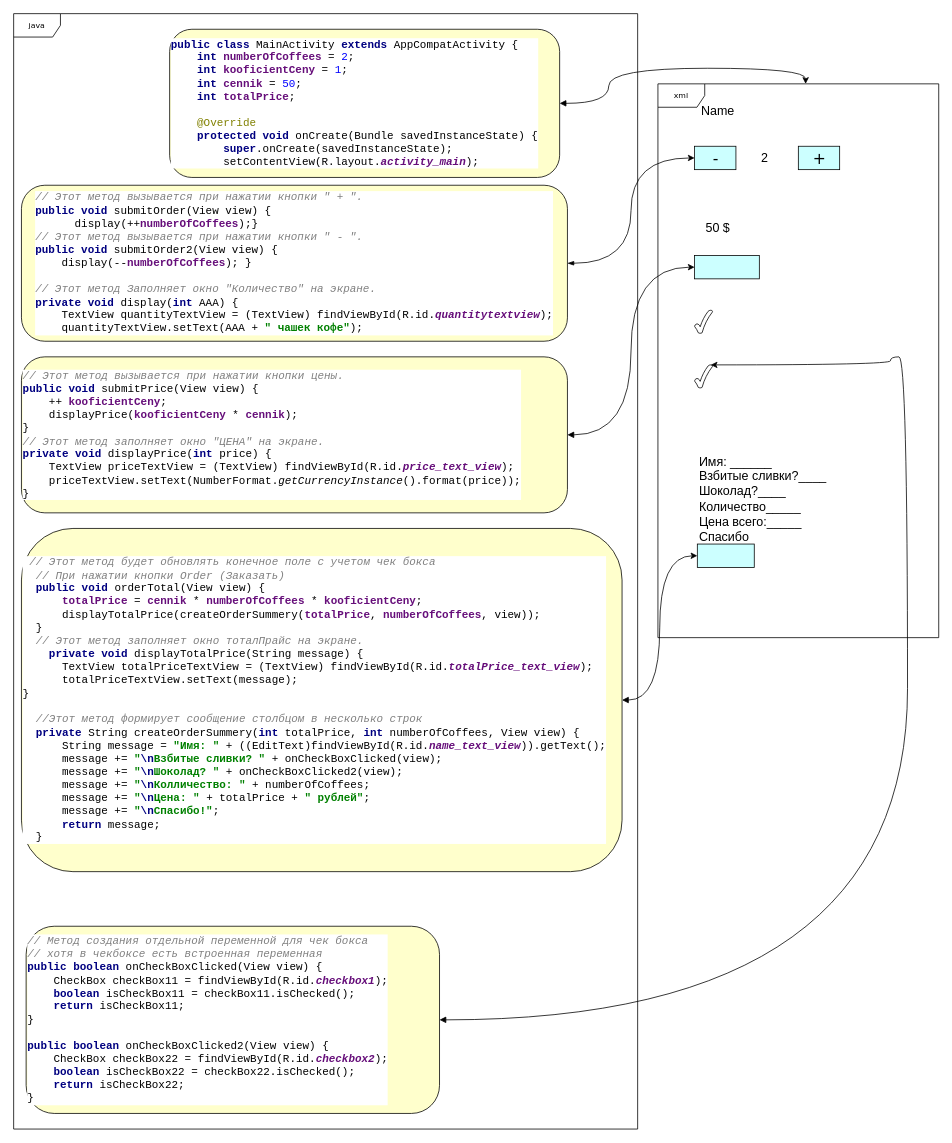
Some shapes in this 952 by 1143 pixel diagram are drawn without their labels. Each missing label, with the centre of its shape:
Order: the point at 725,555
Price: the point at 726,267
